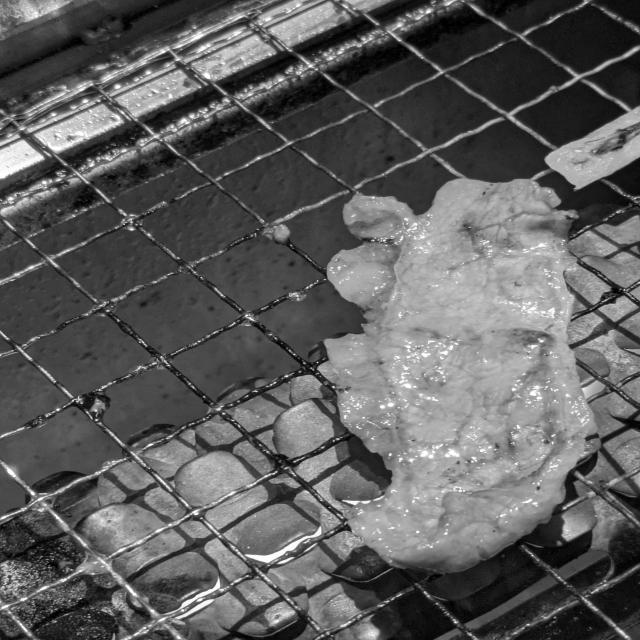OK cooked beef,: (288, 149, 628, 600)
